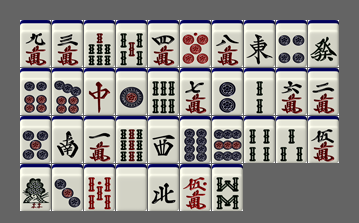0m: (180, 164, 211, 211)
0p: (180, 20, 211, 67)
0s: (84, 164, 115, 211)
1m: (84, 116, 115, 163)
1p: (116, 68, 147, 115)
1s: (20, 164, 51, 211)
1z: (244, 20, 275, 67)
2m: (308, 68, 339, 115)
2p: (212, 68, 243, 115)
2s: (244, 68, 275, 115)
2z: (52, 116, 83, 163)
3m: (52, 20, 83, 67)
3p: (52, 164, 83, 211)
3s: (276, 116, 307, 163)
3z: (148, 116, 179, 163)
4m: (148, 20, 179, 67)
4p: (276, 20, 307, 67)
4s: (244, 116, 275, 163)
4z: (148, 164, 179, 211)
5m: (308, 116, 339, 163)
5p: (20, 116, 51, 163)
5s: (116, 20, 147, 67)
5z: (116, 164, 147, 211)
6m: (276, 68, 307, 115)
6p: (20, 68, 51, 115)
6s: (148, 68, 179, 115)
6z: (308, 20, 339, 67)
7m: (180, 68, 211, 115)
7p: (52, 68, 83, 115)
7s: (84, 20, 115, 67)
7z: (84, 68, 115, 115)
8m: (212, 20, 243, 67)
8p: (180, 116, 211, 163)
8s: (212, 164, 243, 211)
9m: (20, 20, 51, 67)
9p: (212, 116, 243, 163)
9s: (116, 116, 147, 163)
